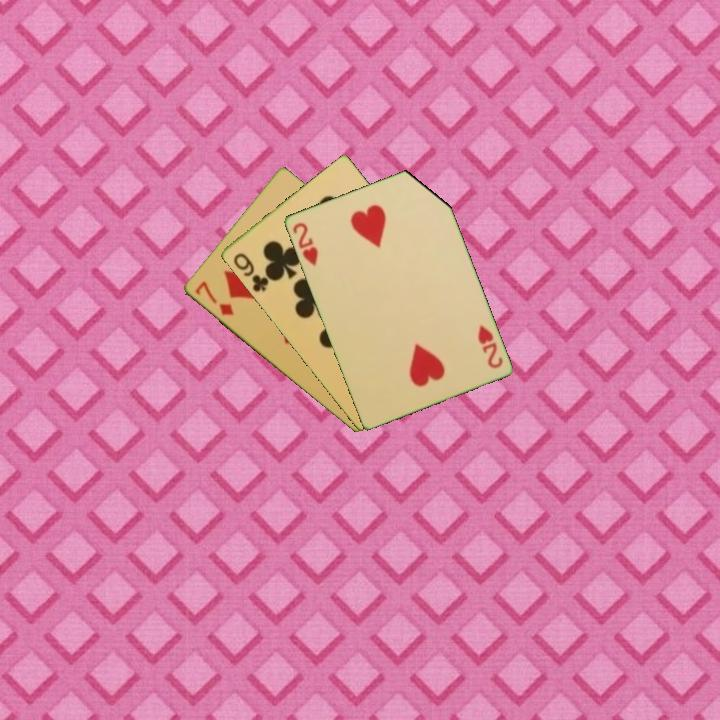2h: (289, 219, 321, 269), (474, 320, 505, 371)
7d: (191, 277, 236, 319)
9c: (229, 249, 271, 295)
